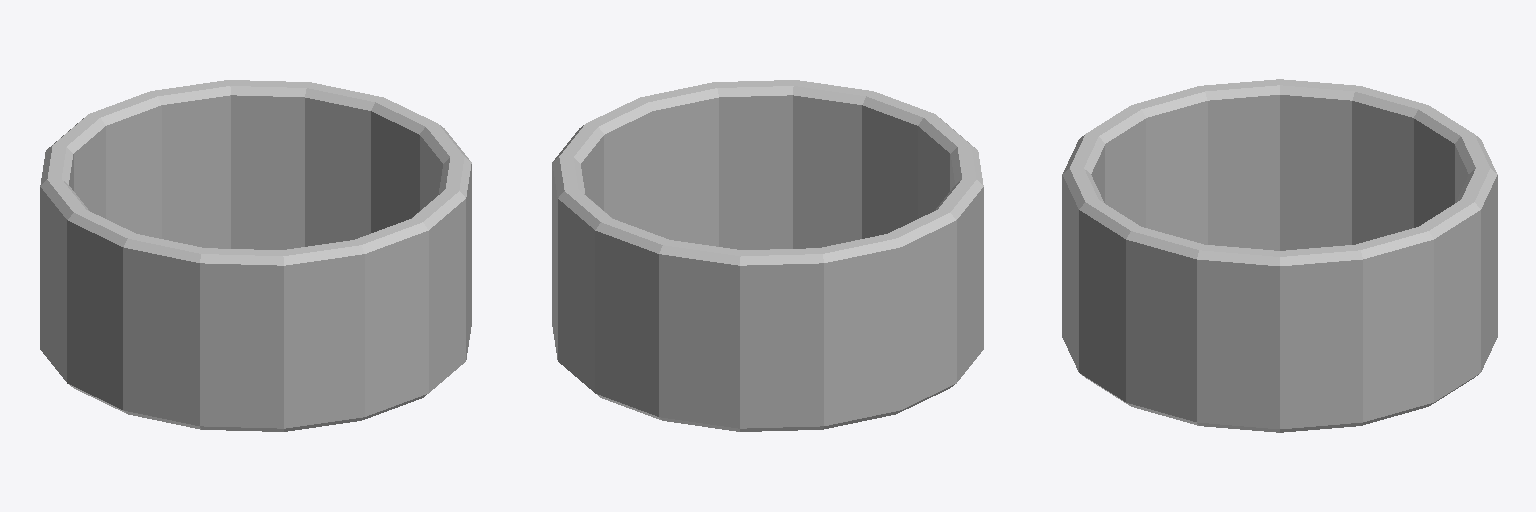
Rendered from rope low 2.obj.
The picture shows the model from 3 angles: view 1: azimuth 30°, elevation 25°; view 2: azimuth 150°, elevation 25°; view 3: azimuth 270°, elevation 25°; orthographic projection.
Parts seen in each view (by area): view 1: pCylinder5; view 2: pCylinder5; view 3: pCylinder5.
Boxes of the visible parts, x1,y1,x2,y2 form: pCylinder5: [40, 80, 471, 431]; pCylinder5: [552, 80, 983, 431]; pCylinder5: [1062, 79, 1497, 432].
Size of the model in its own units: 0.4324 by 0.1927 by 0.4324.